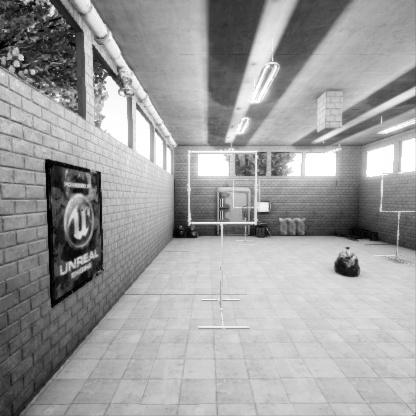gate: (189, 194, 261, 266), (384, 205, 416, 245), (232, 209, 261, 237)
